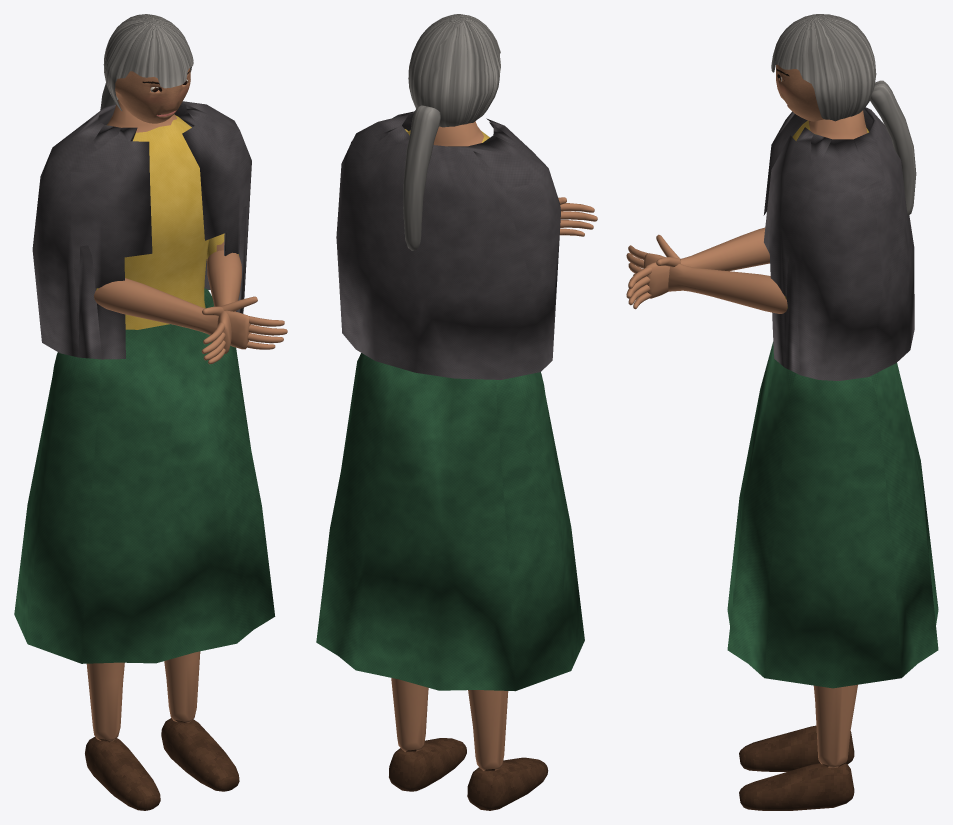
File: persona_mujer_c_medio.obj
The picture shows the model from 3 angles, left to right: view 1: azimuth 30°, elevation 25°; view 2: azimuth 150°, elevation 25°; view 3: azimuth 270°, elevation 25°; orthographic projection. The views are drawn at different scales.
Visible parts, largest first — view 1: Falda, Rebozo, Torso, PiernaDer, AntebrazoDer, PiernaIzq, Pelo, AntebrazoIzq, Cabeza; view 2: Falda, Rebozo, Pelo, PiernaDer, PiernaIzq, AntebrazoIzq, Torso; view 3: Falda, Rebozo, Pelo, PiernaIzq, AntebrazoIzq, AntebrazoDer, PiernaDer, Cabeza, Torso.
Boxes of the visible parts, x1,y1,x2,y2 form: Falda: [14, 288, 275, 663]; Rebozo: [32, 101, 251, 359]; Torso: [107, 99, 209, 329]; PiernaDer: [85, 662, 160, 810]; AntebrazoDer: [94, 278, 287, 349]; PiernaIzq: [161, 651, 239, 791]; Pelo: [100, 14, 193, 110]; AntebrazoIzq: [201, 250, 241, 364]; Cabeza: [115, 68, 190, 123]; Falda: [316, 353, 584, 691]; Rebozo: [336, 111, 560, 379]; Pelo: [403, 14, 500, 250]; PiernaDer: [467, 690, 548, 810]; PiernaIzq: [389, 678, 466, 791]; AntebrazoIzq: [558, 197, 597, 236]; Torso: [407, 121, 489, 146]; Falda: [727, 342, 938, 688]; Rebozo: [763, 107, 914, 380]; Pelo: [771, 14, 916, 215]; PiernaIzq: [739, 684, 857, 810]; AntebrazoIzq: [626, 234, 787, 313]; AntebrazoDer: [626, 227, 769, 309]; PiernaDer: [739, 725, 854, 771]; Cabeza: [776, 64, 823, 121]; Torso: [792, 110, 868, 140].
Size of the model in its own units: 0.5257 by 1.62 by 0.5943.
Materials: 12 (12 with a texture image).
